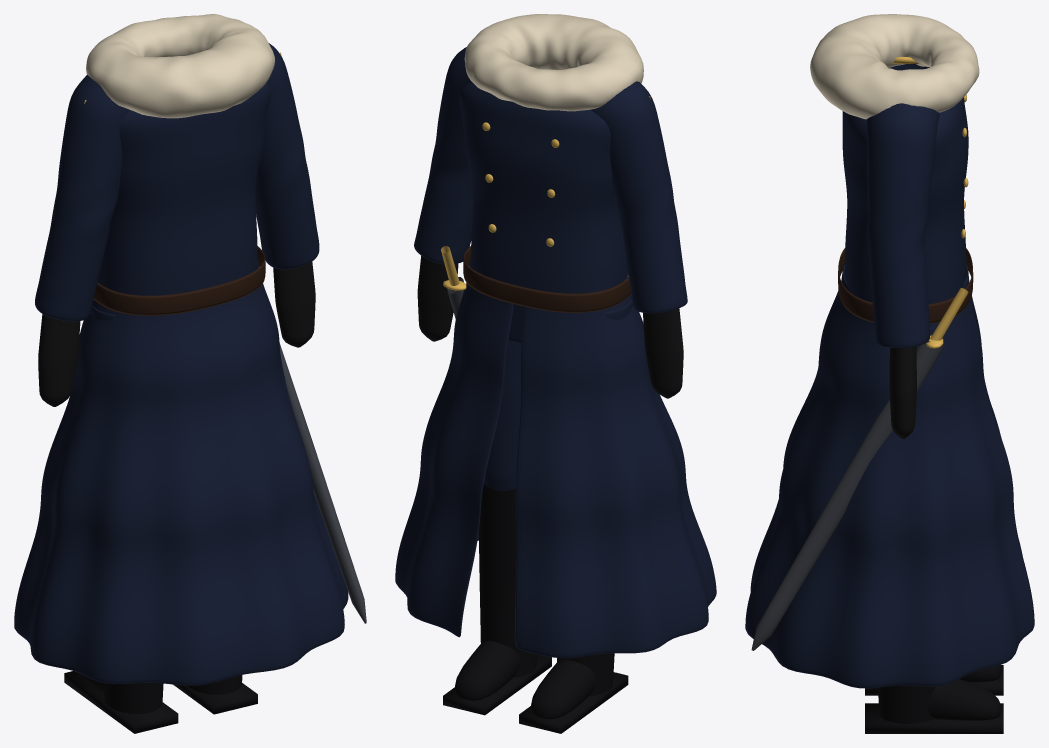
The model's file is tenue_olivier_generee.glb.
3 renders of one model, left to right at view 1: azimuth 30°, elevation 25°; view 2: azimuth 150°, elevation 25°; view 3: azimuth 270°, elevation 25°, orthographic. The views are drawn at different scales.
Visible parts, largest first — view 1: Capote_Pans_Olivier, Capote_Torse_Olivier, Manches_Olivier, Col_Fourrure_Olivier, Gants_Olivier, Ceinture_Olivier, Fourreau_Sabre_Olivier, Semelles_Olivier, Bottes_Olivier; view 2: Capote_Pans_Olivier, Capote_Torse_Olivier, Manches_Olivier, Col_Fourrure_Olivier, Bottes_Olivier, Gants_Olivier, Pantalon_Olivier, Ceinture_Olivier, Semelles_Olivier, Garde_Sabre_Olivier; view 3: Capote_Pans_Olivier, Manches_Olivier, Col_Fourrure_Olivier, Capote_Torse_Olivier, Fourreau_Sabre_Olivier, Bottes_Olivier, Semelles_Olivier, Gants_Olivier, Ceinture_Olivier, Garde_Sabre_Olivier.
Boxes of the visible parts, x1,y1,x2,y2 form: Capote_Pans_Olivier: (14, 258, 348, 685); Capote_Torse_Olivier: (97, 82, 270, 295); Manches_Olivier: (35, 43, 319, 321); Col_Fourrure_Olivier: (86, 14, 274, 118); Gants_Olivier: (38, 262, 315, 406); Ceinture_Olivier: (93, 246, 265, 315); Fourreau_Sabre_Olivier: (279, 343, 366, 623); Semelles_Olivier: (64, 671, 257, 733); Bottes_Olivier: (78, 673, 242, 714); Capote_Pans_Olivier: (395, 257, 716, 658); Capote_Torse_Olivier: (459, 82, 627, 293); Manches_Olivier: (414, 47, 687, 313); Col_Fourrure_Olivier: (464, 14, 643, 111); Bottes_Olivier: (454, 484, 614, 719); Gants_Olivier: (417, 255, 683, 398); Pantalon_Olivier: (484, 295, 632, 491); Ceinture_Olivier: (463, 246, 631, 312); Semelles_Olivier: (443, 654, 628, 733); Garde_Sabre_Olivier: (441, 246, 466, 290); Capote_Pans_Olivier: (745, 263, 1034, 688); Manches_Olivier: (866, 103, 939, 347); Col_Fourrure_Olivier: (810, 14, 979, 119); Capote_Torse_Olivier: (842, 64, 968, 304); Fourreau_Sabre_Olivier: (751, 341, 943, 650); Bottes_Olivier: (878, 665, 1001, 723); Semelles_Olivier: (865, 665, 1003, 733); Gants_Olivier: (889, 346, 916, 438); Ceinture_Olivier: (838, 248, 973, 323); Garde_Sabre_Olivier: (926, 288, 968, 348).
Bounding box in the file's own units: 0.7164 × 1.53 × 0.6052.
